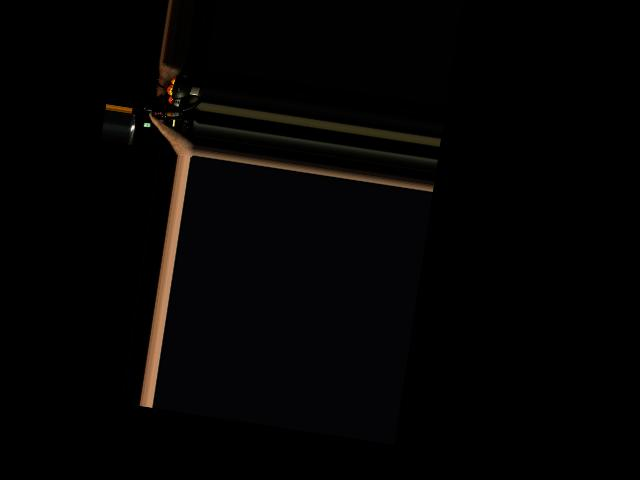beer: (148, 105, 182, 123)
